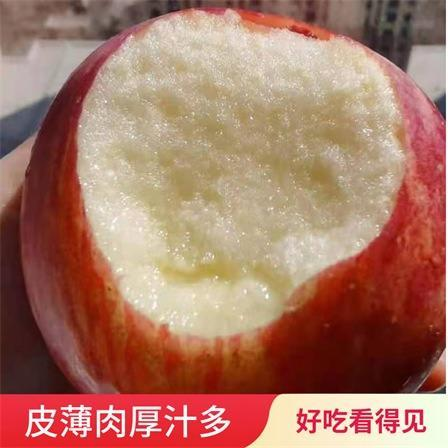apple: (19, 9, 446, 393)
